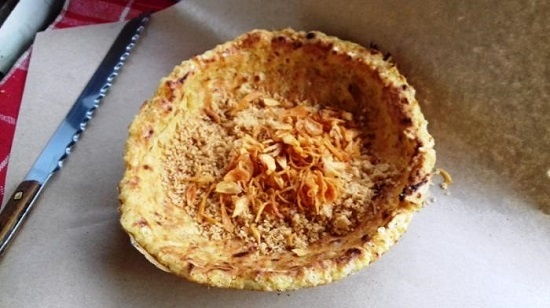kerak_telor: (114, 35, 438, 288)
